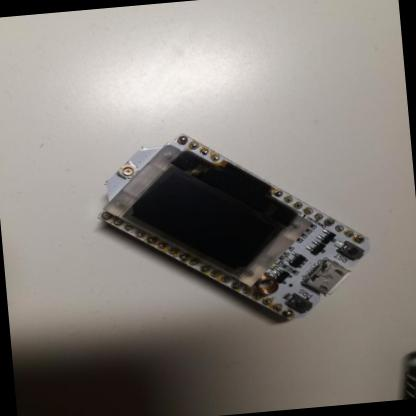Heltec_ESP32_Lora: (91, 117, 380, 342)
